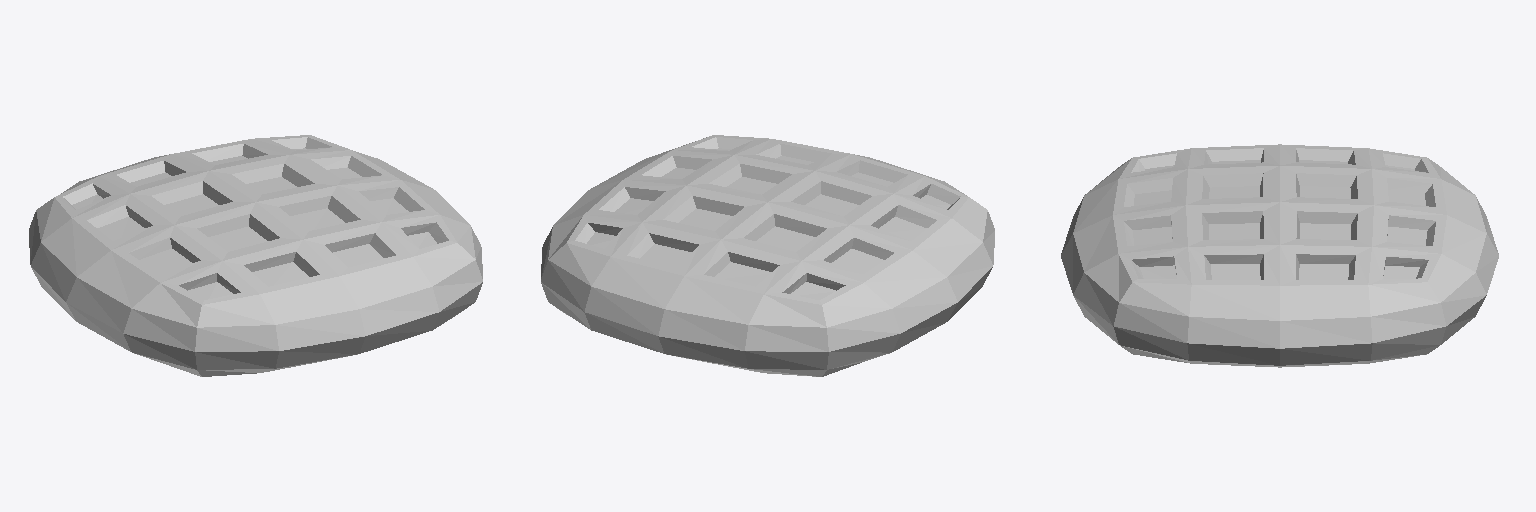
File: Big_C_Waffle_01.obj
3 views of the same model, side by side, from view 1: azimuth 30°, elevation 25°; view 2: azimuth 150°, elevation 25°; view 3: azimuth 270°, elevation 25° (orthographic).
Parts seen in each view (by area): view 1: Waffle_Cube.001; view 2: Waffle_Cube.001; view 3: Waffle_Cube.001.
Boxes of the visible parts, <box> form: Waffle_Cube.001: <box>29,135,482,376</box>; Waffle_Cube.001: <box>541,135,994,376</box>; Waffle_Cube.001: <box>1061,144,1498,367</box>.
Size of the model in its own units: 1.43 by 0.3867 by 1.43.